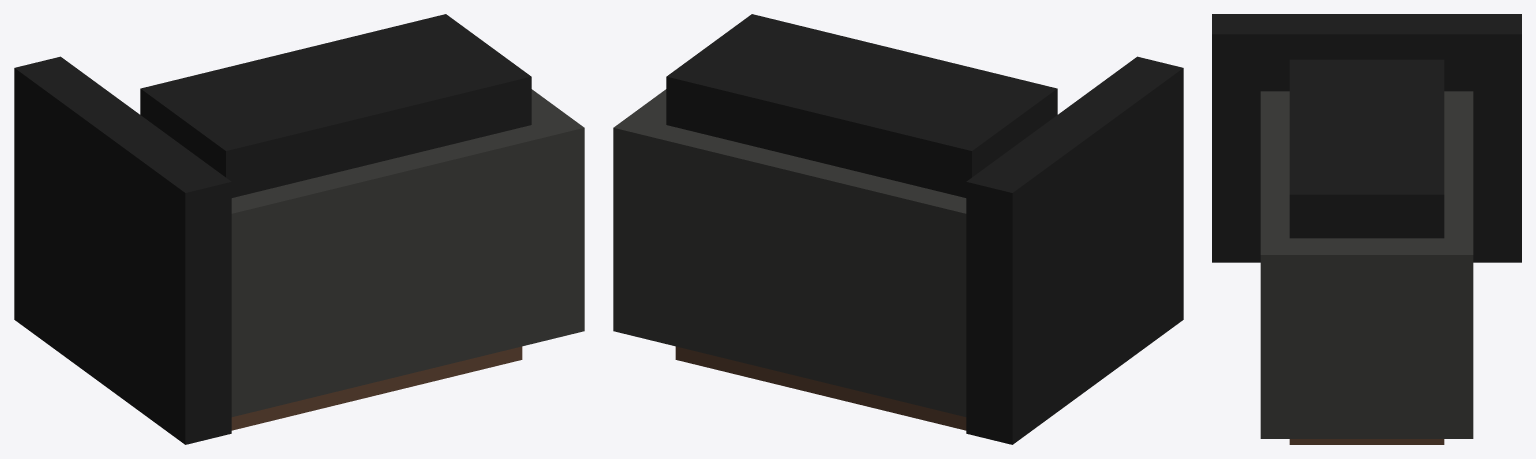
The model's file is burnt_out_bus_engine.glb.
The picture shows the model from 3 angles, left to right: view 1: azimuth 30°, elevation 25°; view 2: azimuth 150°, elevation 25°; view 3: azimuth 270°, elevation 25°; orthographic projection. The views are drawn at different scales.
Visible parts, largest first — view 1: body:compound; view 2: body:compound; view 3: body:compound.
Part boxes in pixels (left/top/right/bottom): body:compound: left=14, top=14, right=584, bottom=444; body:compound: left=613, top=14, right=1183, bottom=444; body:compound: left=1212, top=14, right=1521, bottom=444.
Size of the model in its own units: 1.44 by 0.9375 by 1.
